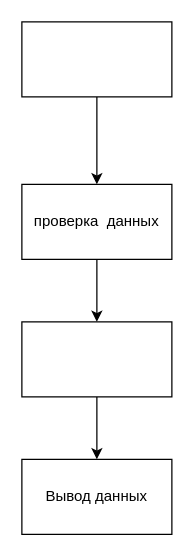
Image size: 194x556. Some labels were removed from this diagram. The centre of each missing label's shape, as x and y in pixels:
"Ввод данных" belongs at pixel 96 59.
"Сложение двух чисел" belongs at pixel 96 359.
